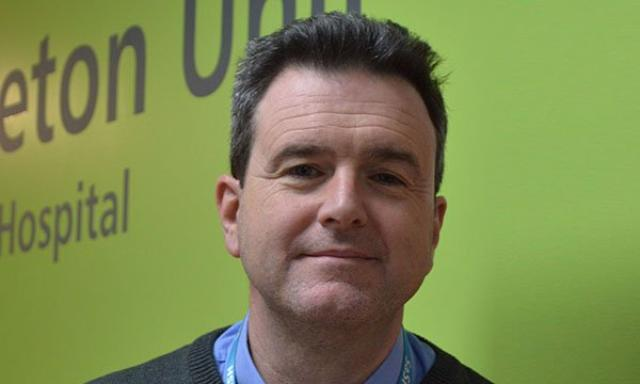crows_feet: (260, 164, 284, 186), (404, 177, 424, 203)
forehead: (316, 102, 350, 134), (356, 100, 386, 136), (274, 107, 308, 136), (390, 102, 414, 142)
